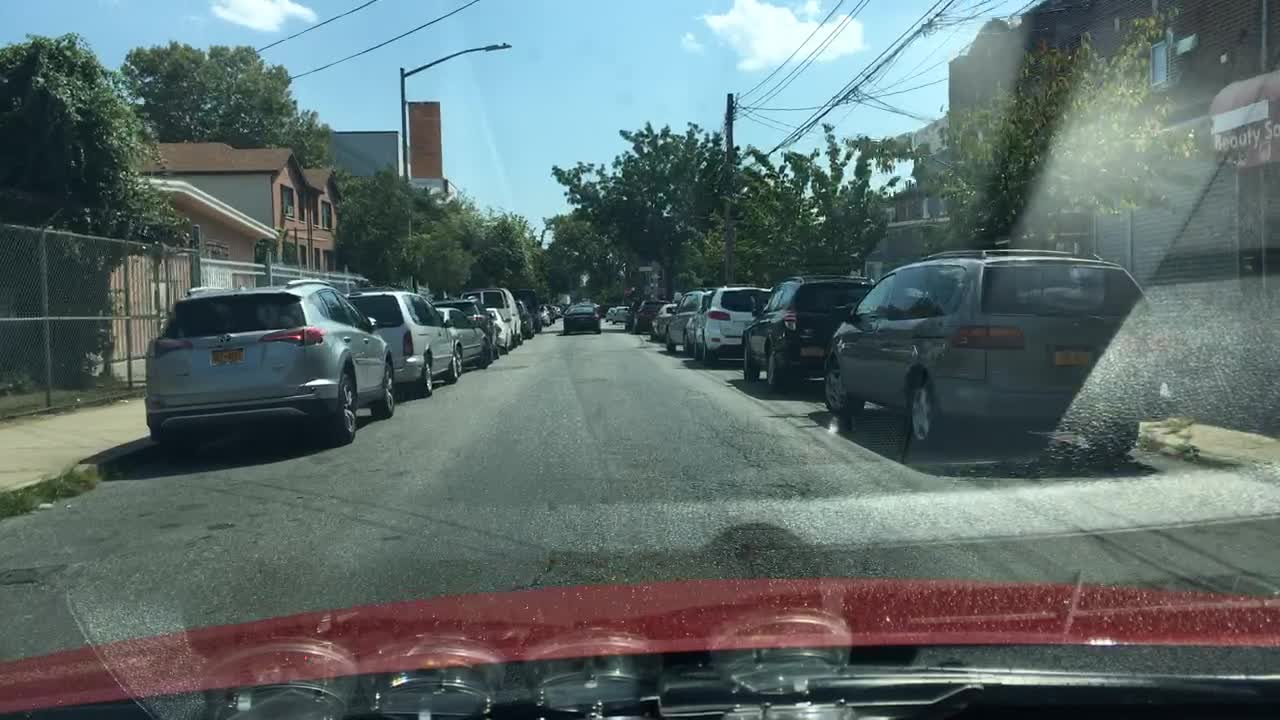car: (820, 249, 1160, 464), (142, 275, 396, 450), (738, 277, 873, 390), (347, 286, 462, 396), (691, 286, 769, 365), (436, 297, 500, 360), (431, 306, 490, 363), (460, 289, 520, 342), (664, 293, 707, 350), (561, 300, 602, 338), (511, 284, 543, 331), (651, 303, 682, 342), (486, 307, 511, 349), (638, 299, 669, 331), (515, 299, 535, 338), (625, 298, 642, 329), (536, 307, 552, 325), (614, 305, 629, 321), (547, 303, 560, 317), (605, 306, 616, 320)
traffic sign: (640, 263, 659, 275)
